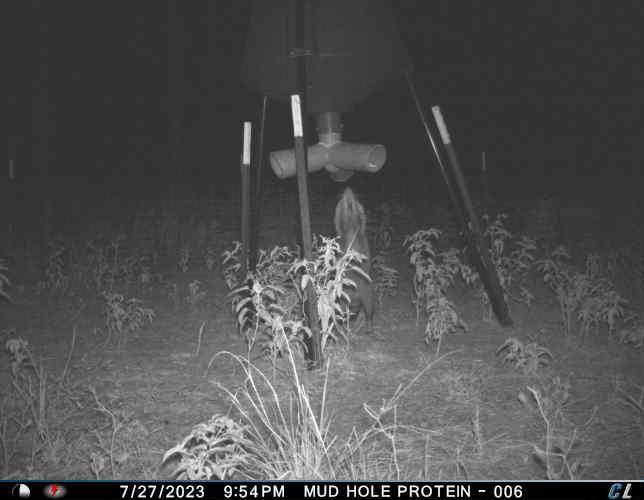Raccoon: (335, 188, 378, 338)
